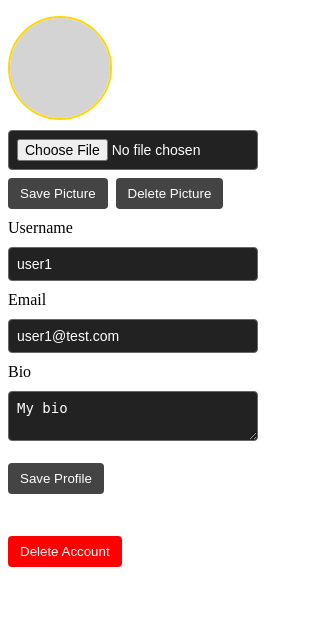
Test: ProfileSidebar component › saves profile successfully
Check: the 1st field showing "user1" is shown, box left=8, top=247, right=258, bottom=281
Step 1. Click the button "Save Profile" → (56,478), box left=8, top=463, right=104, bottom=494
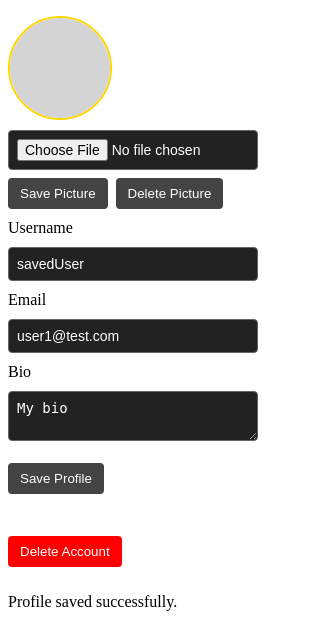
Check: the text "Profile saved successfully." is shown, box left=8, top=593, right=177, bottom=610
